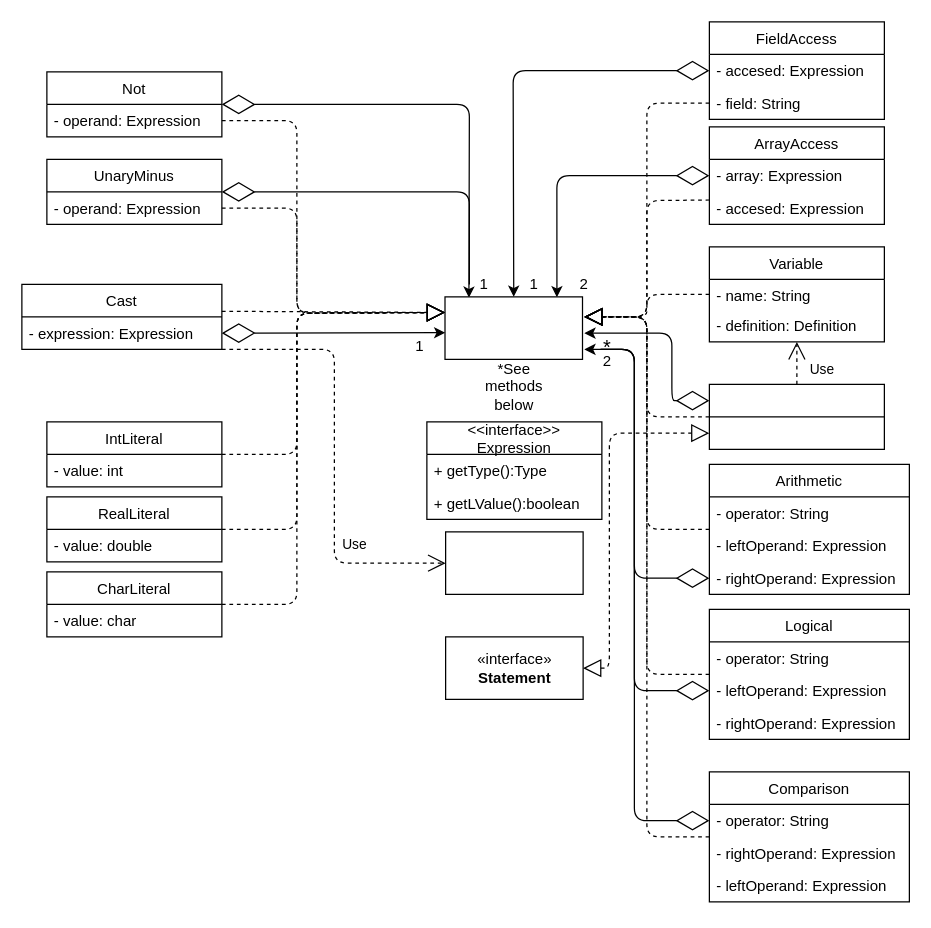
Some shapes in this 931 by 928 pixel diagram are drawn without their labels. Here are the shapes that lost their labels. From the top down, the centre of each, then its label:
At point 513,327: "«interface» Expression".
At point 796,416: "FunctionInvocation".
At point 513,562: "«interface» Type".
